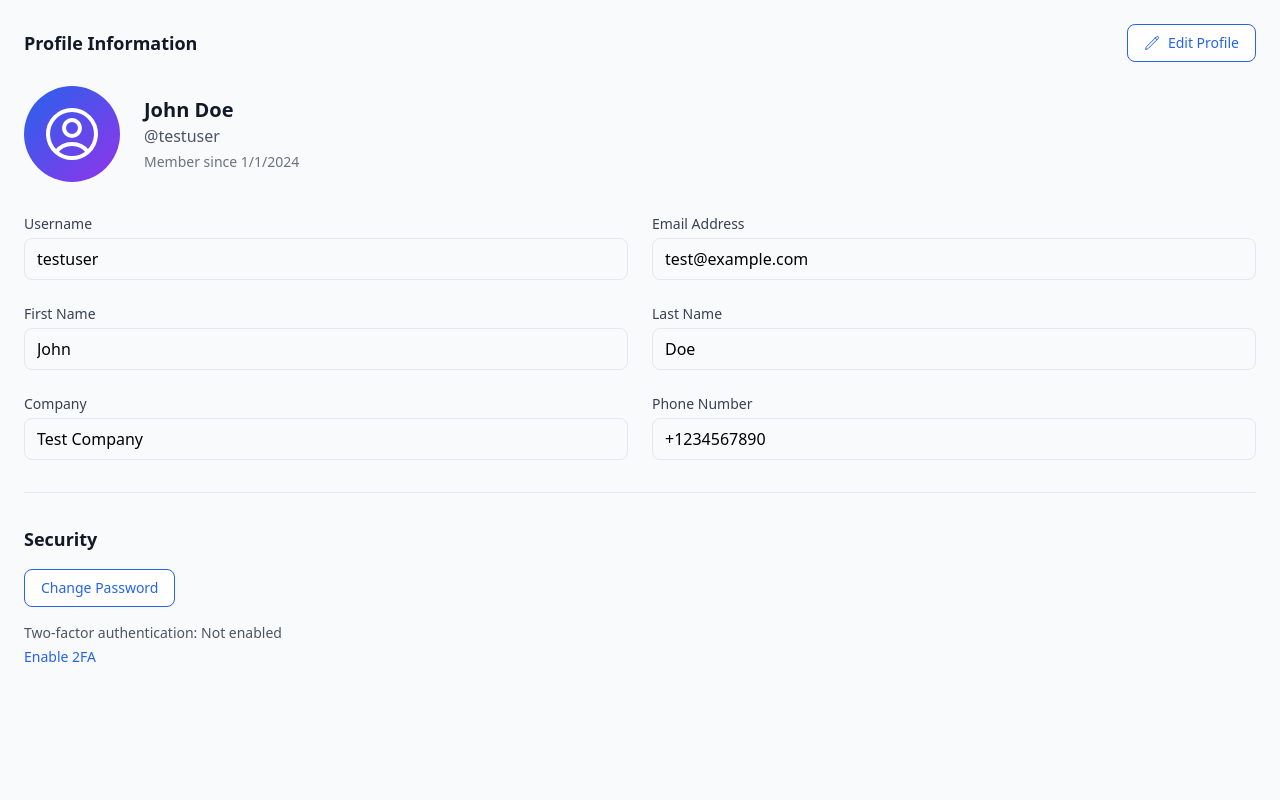
ProfileSection Component › Form Validation and Submission › should save profile changes successfully
The image size is (1280, 800).
Click the button "Edit Profile". click: (1191, 43)
box: [1127, 24, 1256, 62]
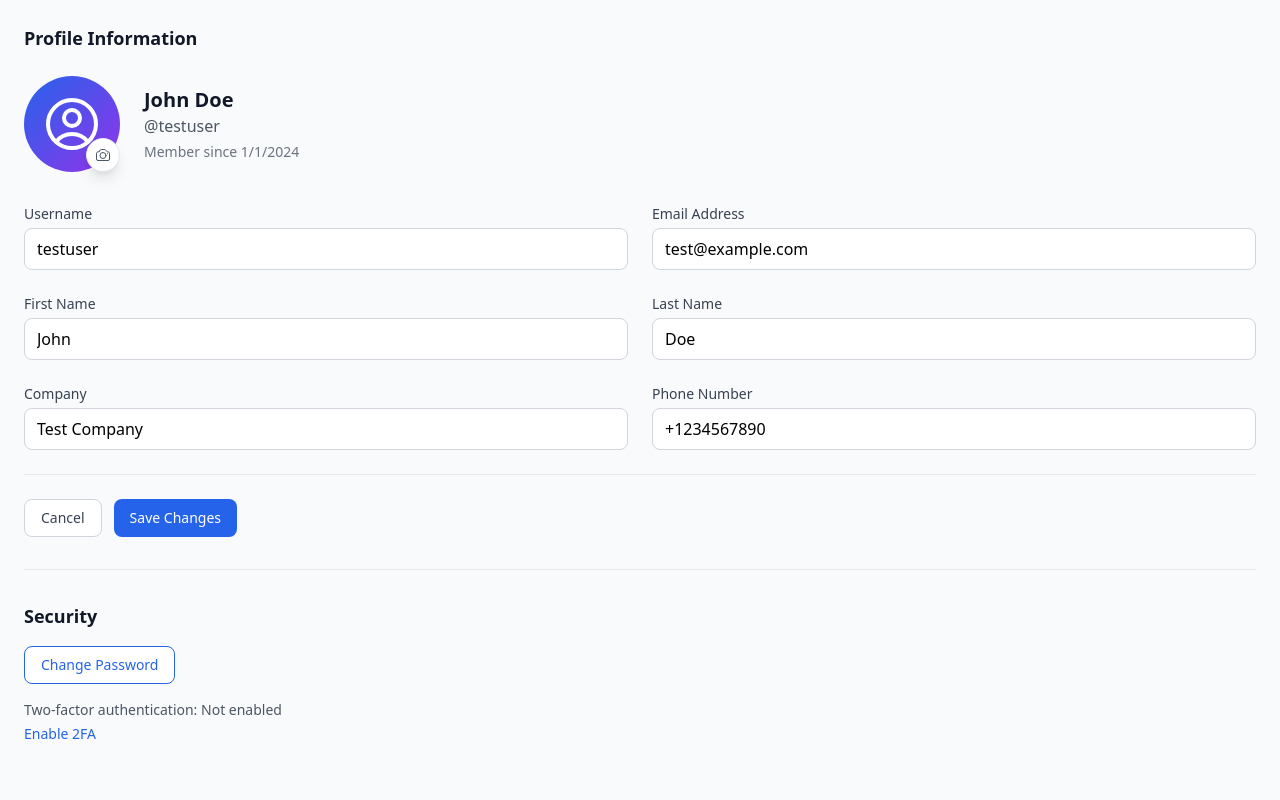
Make changes
Replace the text in the field showing "testuser" below "Username" with "newusername". click: (326, 249)
box: [24, 228, 628, 270]
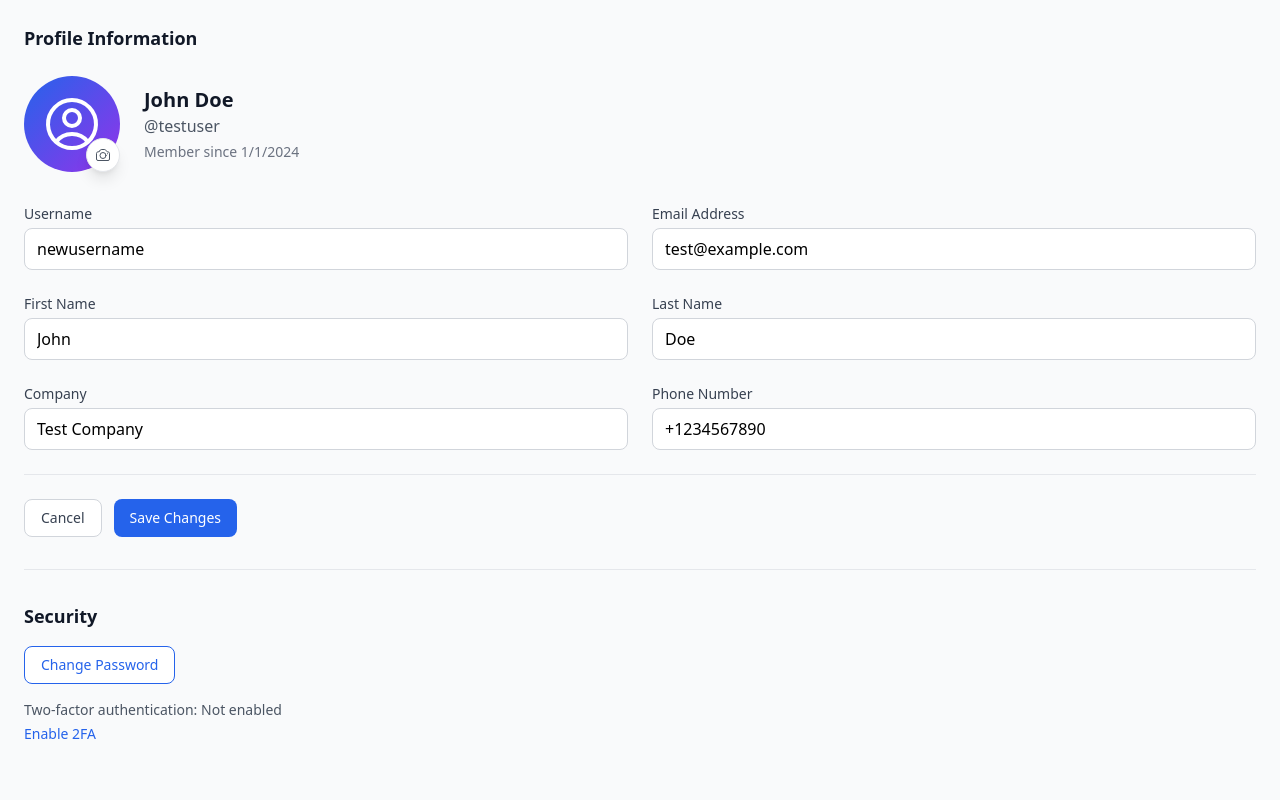
Click the button "Save Changes". click: (175, 518)
box: [114, 499, 237, 537]
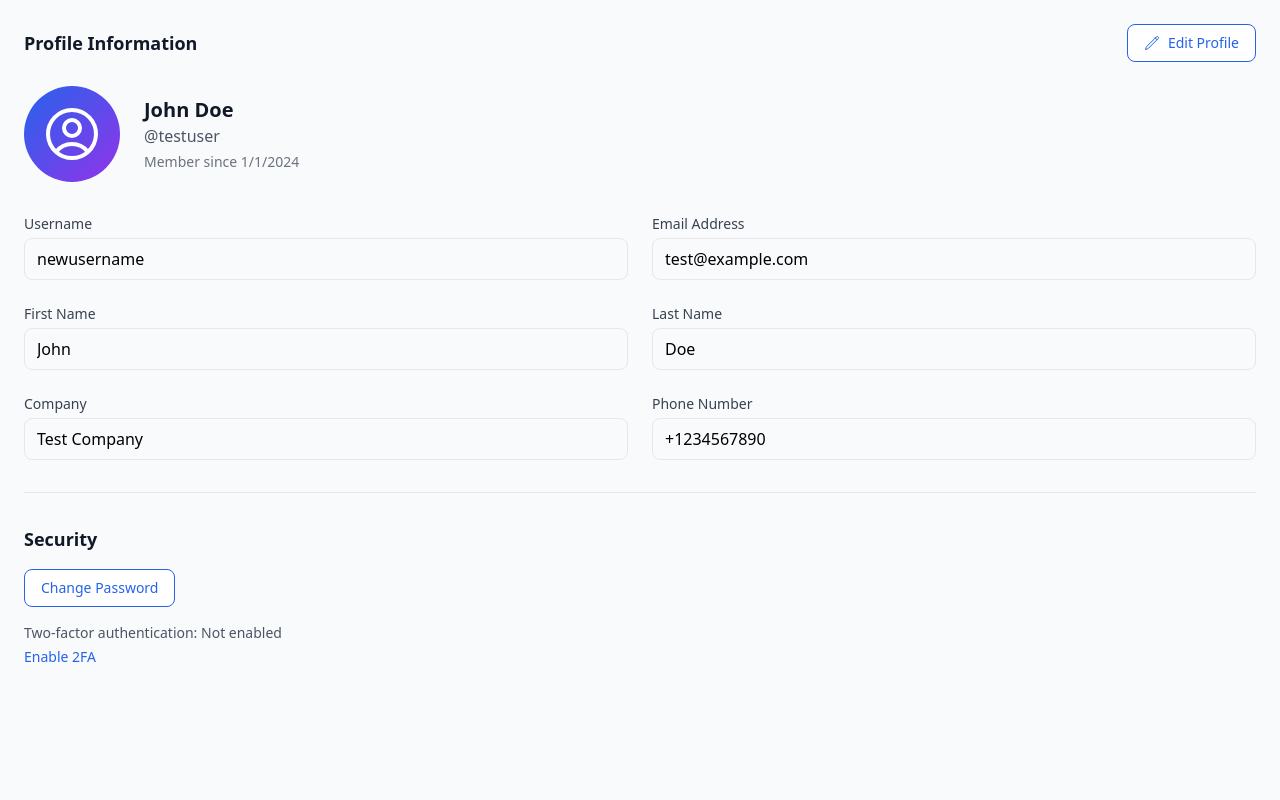
Expected: the button "Edit Profile" is shown, [1127, 24, 1256, 62]
